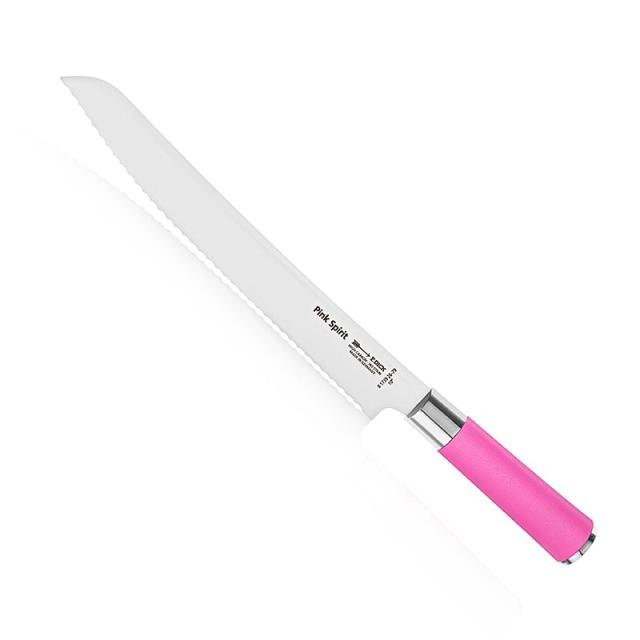Knife: (61, 77, 595, 564)
